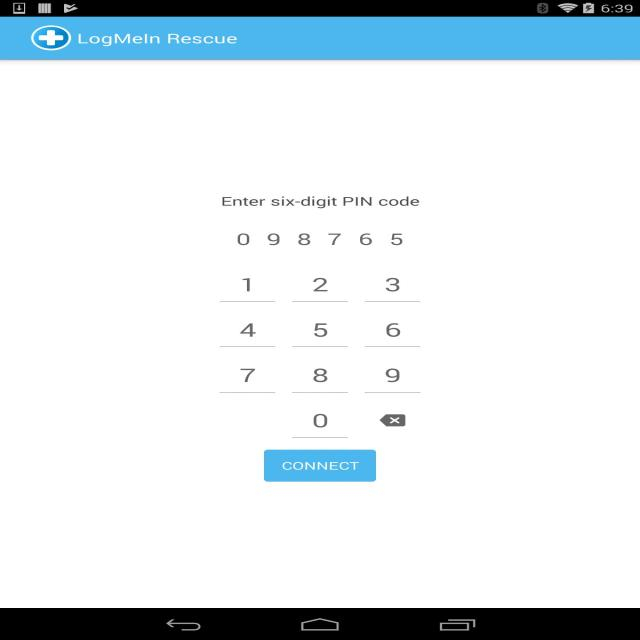button: (263, 450, 376, 482), (292, 312, 346, 348), (365, 312, 416, 348), (293, 268, 345, 302), (362, 360, 417, 392), (366, 267, 414, 302), (292, 361, 345, 392), (221, 314, 270, 347), (223, 268, 269, 301), (224, 361, 267, 393), (298, 408, 346, 436), (373, 408, 420, 434)
heading: (75, 29, 240, 50)
image: (218, 193, 424, 210), (235, 232, 410, 249), (30, 25, 70, 52)
